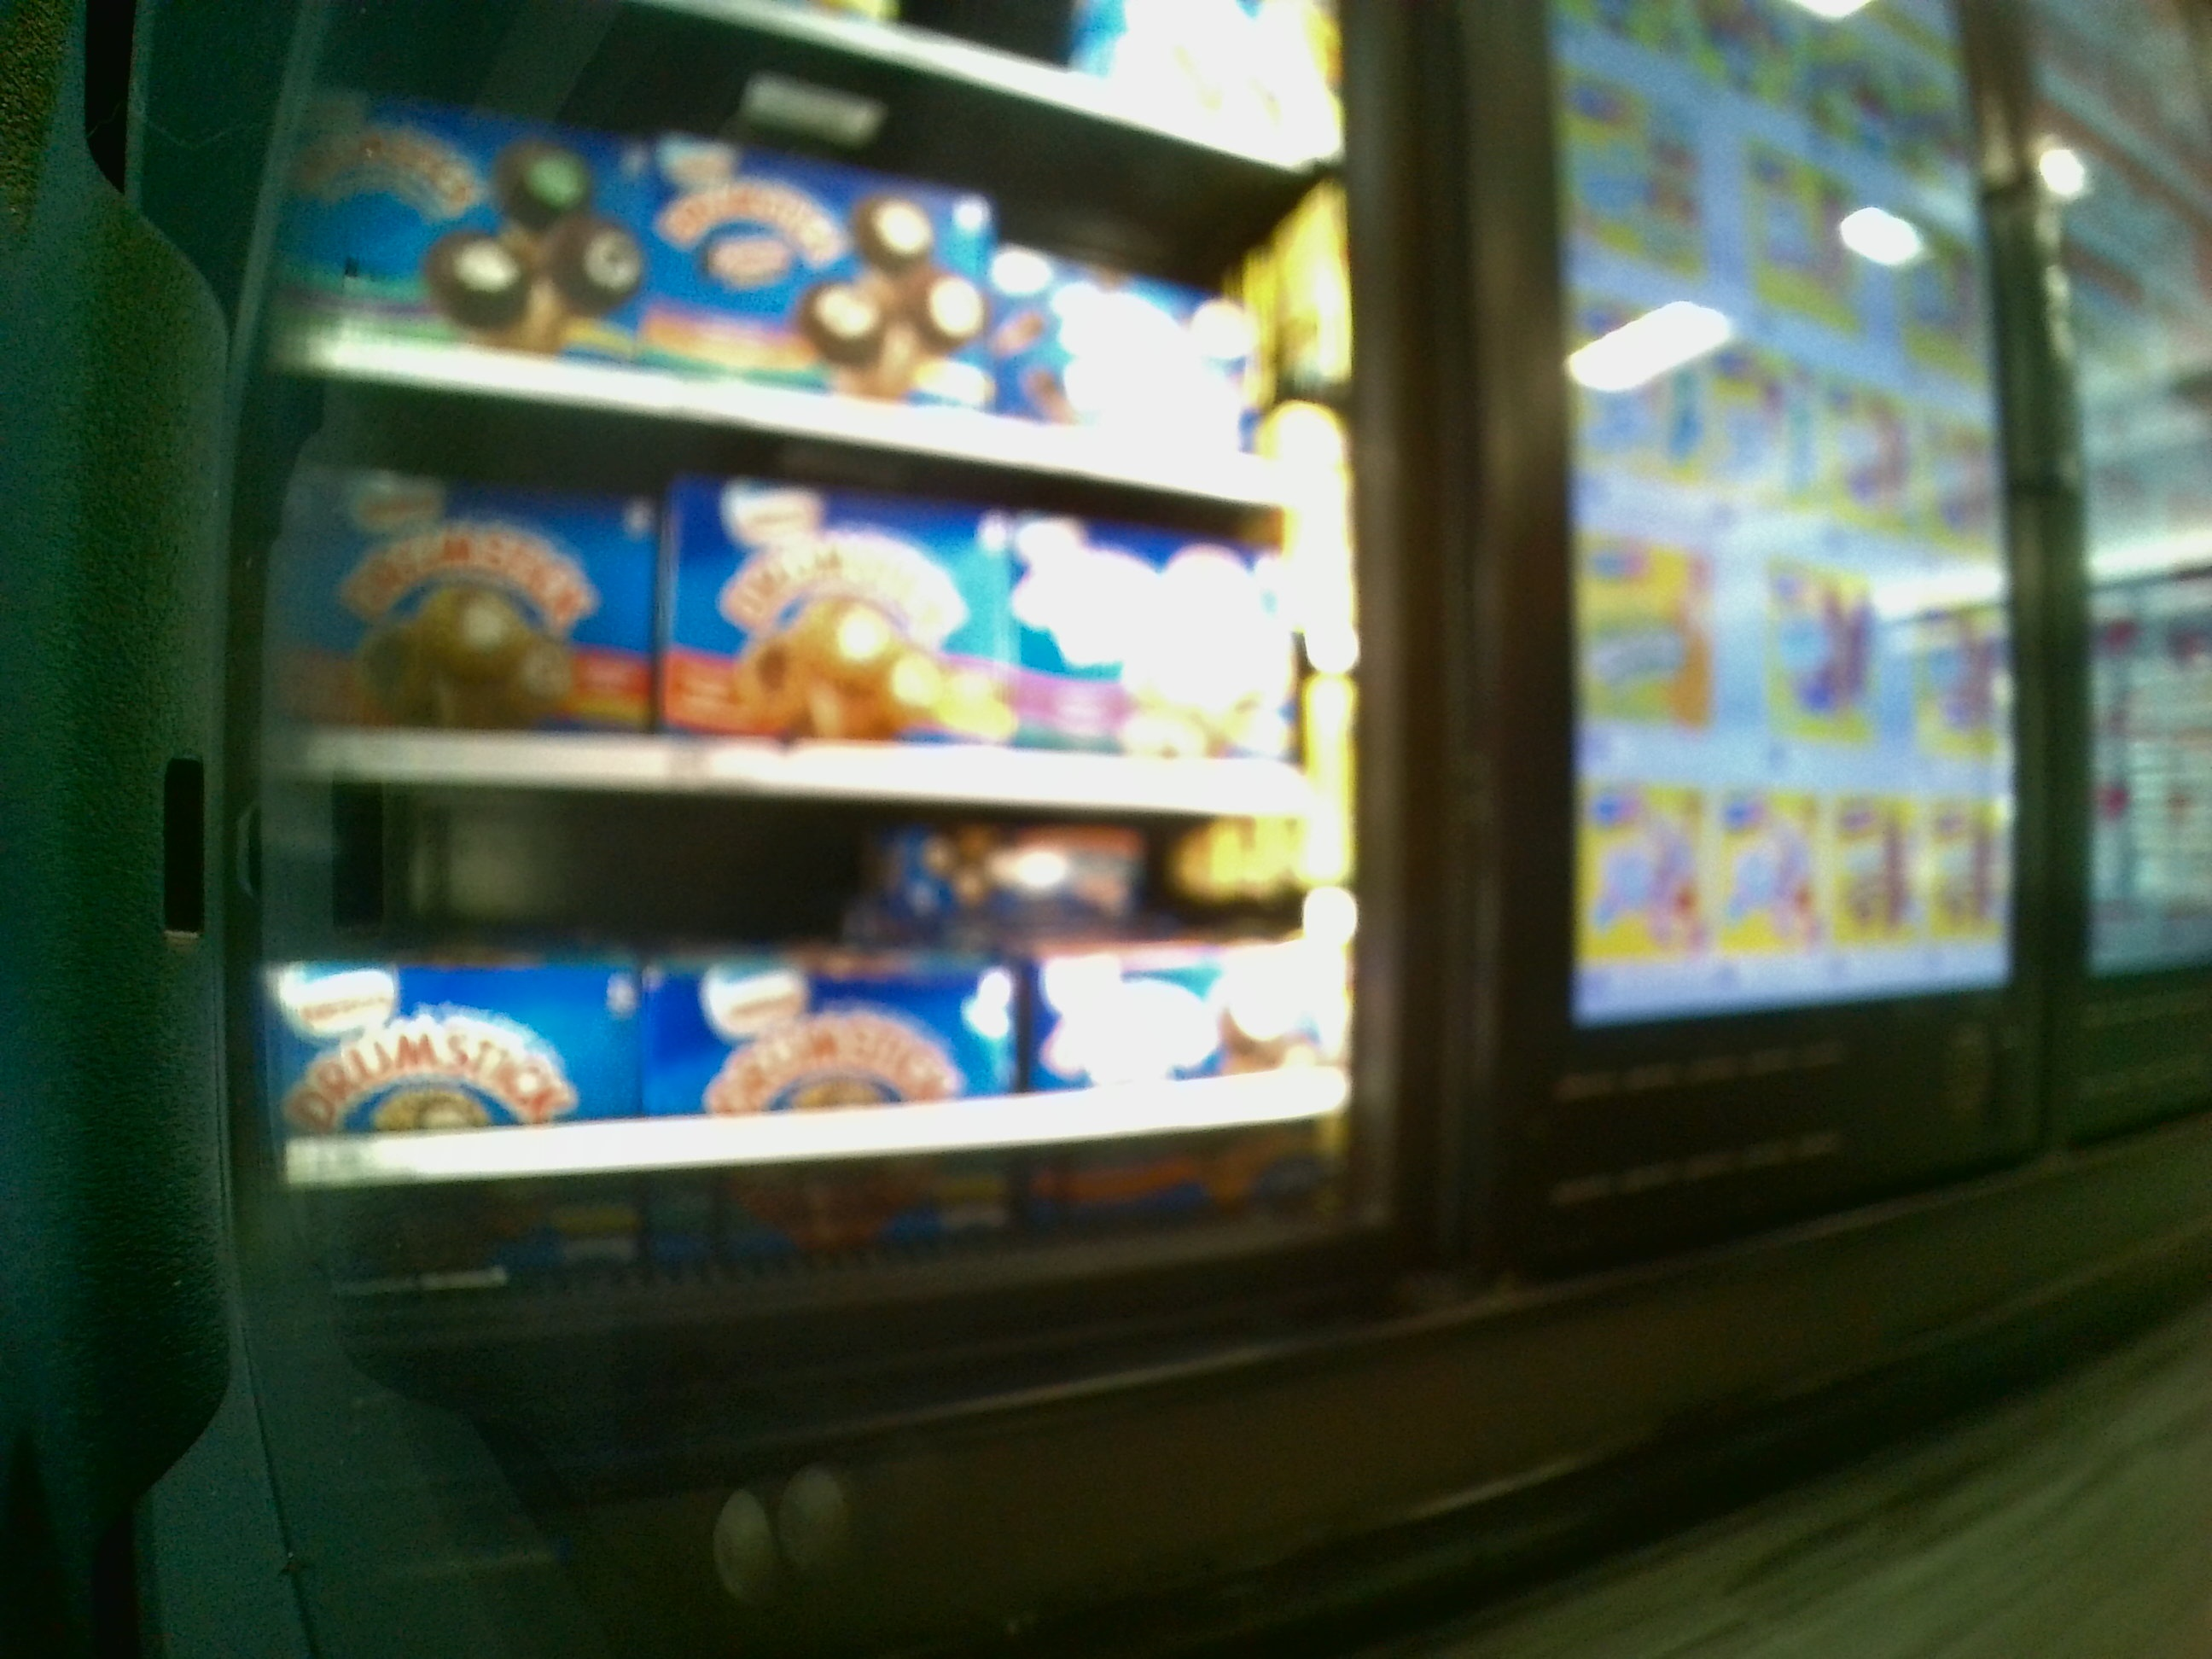shelf: (268, 817, 1331, 1276), (254, 491, 1329, 816)
